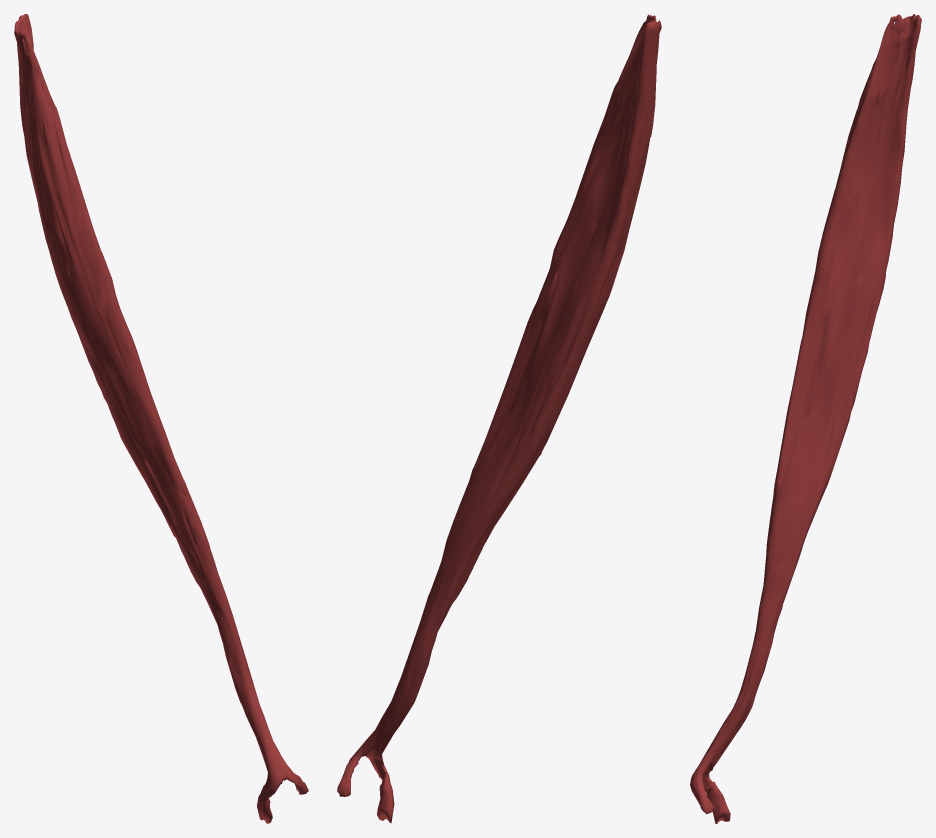
File: humeral-head-of-flexor-carpi-ulnaris-l.glb
The picture shows the model from 3 angles, left to right: view 1: azimuth 30°, elevation 25°; view 2: azimuth 210°, elevation 25°; view 3: azimuth 270°, elevation 25°; orthographic projection. The views are drawn at different scales.
Visible parts, largest first — view 1: Humeral head of flexor carpi ulnaris.l; view 2: Humeral head of flexor carpi ulnaris.l; view 3: Humeral head of flexor carpi ulnaris.l.
Part boxes in pixels (x1,y1,x2,y2): Humeral head of flexor carpi ulnaris.l: (14,14,308,823); Humeral head of flexor carpi ulnaris.l: (337,14,661,823); Humeral head of flexor carpi ulnaris.l: (690,14,921,823).
Size of the model in its own units: 0.071 by 0.2757 by 0.0781.
